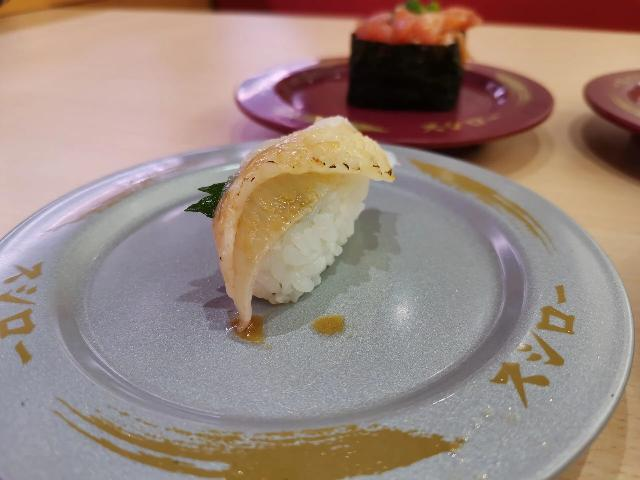janred: (227, 47, 533, 177), (590, 41, 640, 124)
janwhite: (38, 169, 612, 476)
